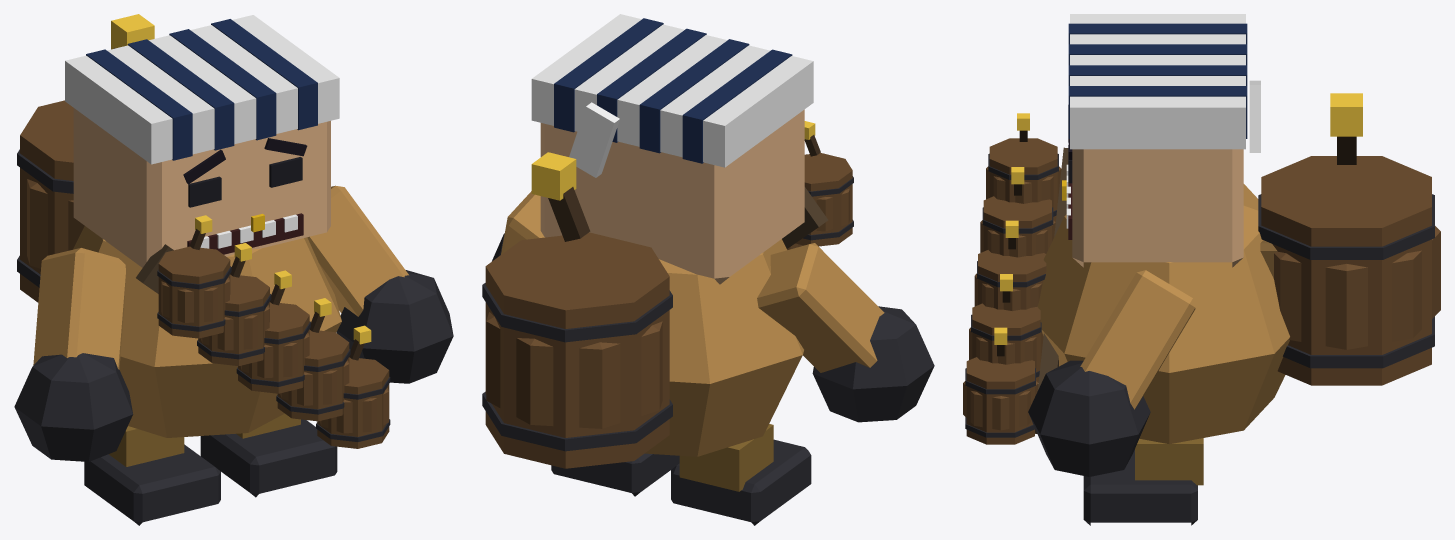
Rendered from r13_mini_powder_keg_bomber.glb.
The picture shows the model from 3 angles, left to right: view 1: azimuth 30°, elevation 25°; view 2: azimuth 150°, elevation 25°; view 3: azimuth 270°, elevation 25°; orthographic projection. The views are drawn at different scales.
Visible parts, largest first — view 1: r13_mini_powder_keg_bomber_mesh; view 2: r13_mini_powder_keg_bomber_mesh; view 3: r13_mini_powder_keg_bomber_mesh.
Boxes of the visible parts, x1,y1,x2,y2 form: r13_mini_powder_keg_bomber_mesh: [14, 14, 453, 525]; r13_mini_powder_keg_bomber_mesh: [482, 14, 934, 525]; r13_mini_powder_keg_bomber_mesh: [963, 14, 1440, 525].
Size of the model in its own units: 3.88 by 3.6 by 3.73.
1 material, 1 textured.
